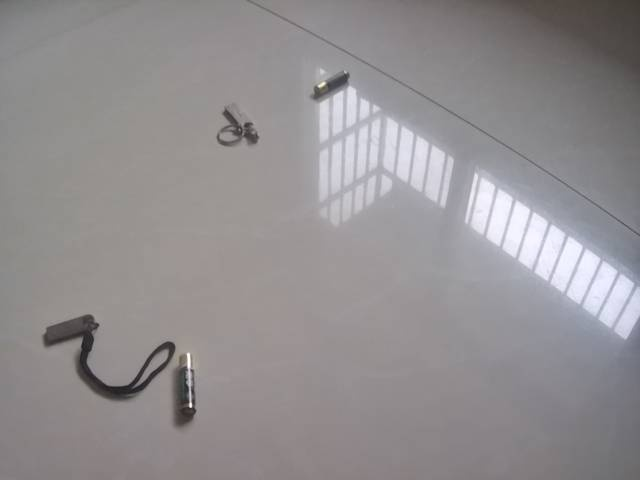U-disk: (42, 308, 175, 396), (213, 100, 261, 153)
battery: (176, 353, 200, 420), (312, 66, 355, 101)
